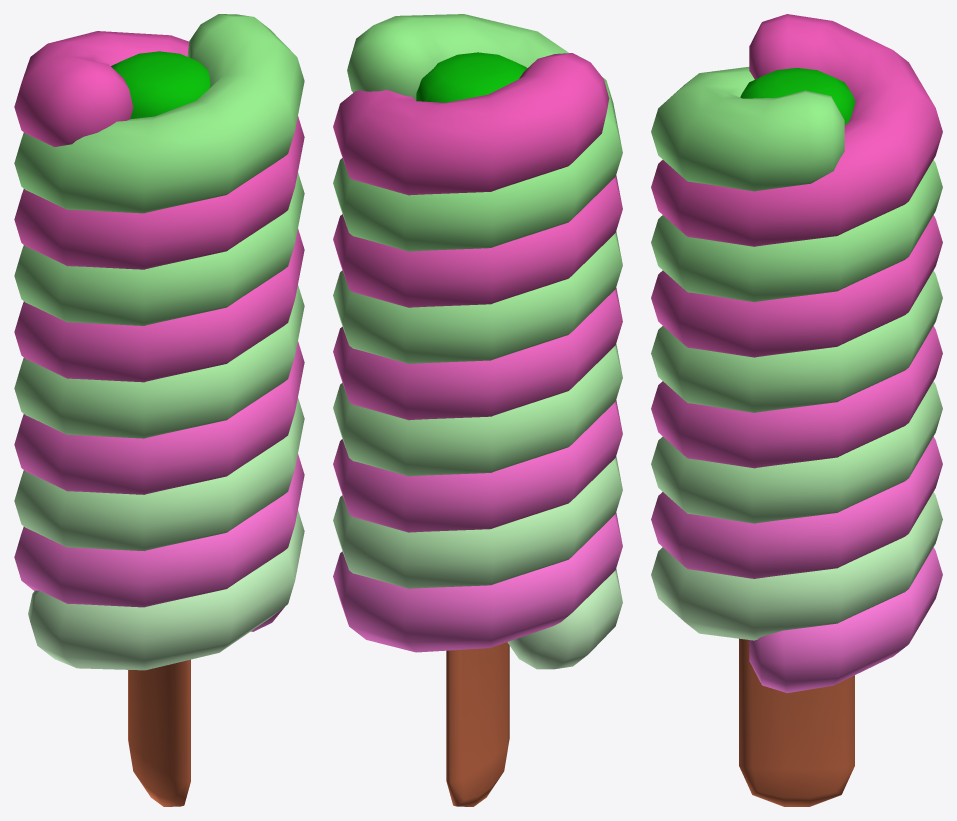
The model's file is Ice_Cream_V1_02.fbx.
The picture shows the model from 3 angles, left to right: view 1: azimuth 30°, elevation 25°; view 2: azimuth 150°, elevation 25°; view 3: azimuth 270°, elevation 25°; orthographic projection.
Parts seen in each view (by area): view 1: Ice_Cream_V1_02; view 2: Ice_Cream_V1_02; view 3: Ice_Cream_V1_02.
Boxes of the visible parts, x1,y1,x2,y2 form: Ice_Cream_V1_02: [14, 14, 304, 806]; Ice_Cream_V1_02: [333, 14, 622, 806]; Ice_Cream_V1_02: [651, 14, 942, 806].
Size of the model in its own units: 15.4 by 45.71 by 16.13.
